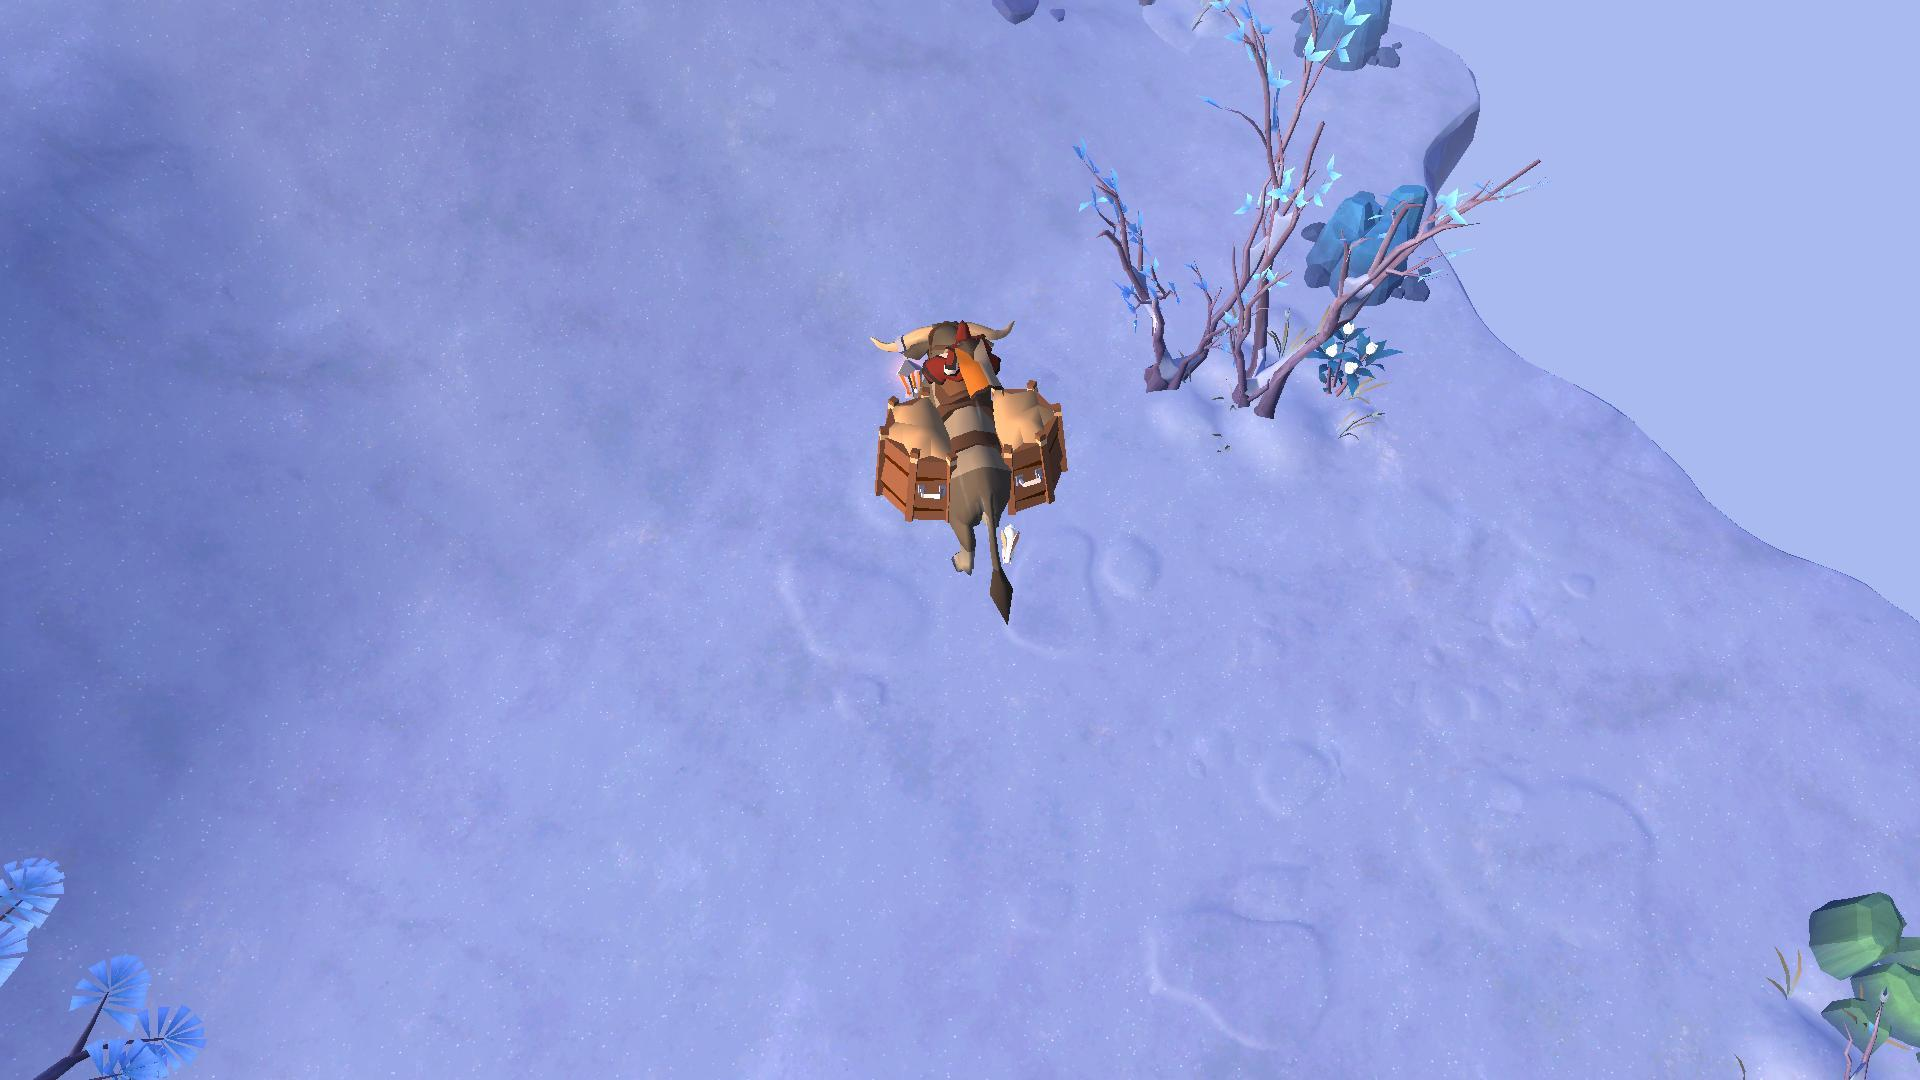fiber_t4: (1307, 320, 1396, 397)
rock_t3: (1789, 882, 1920, 1042)
rock_t4: (1300, 182, 1436, 303), (1295, 0, 1414, 75)
